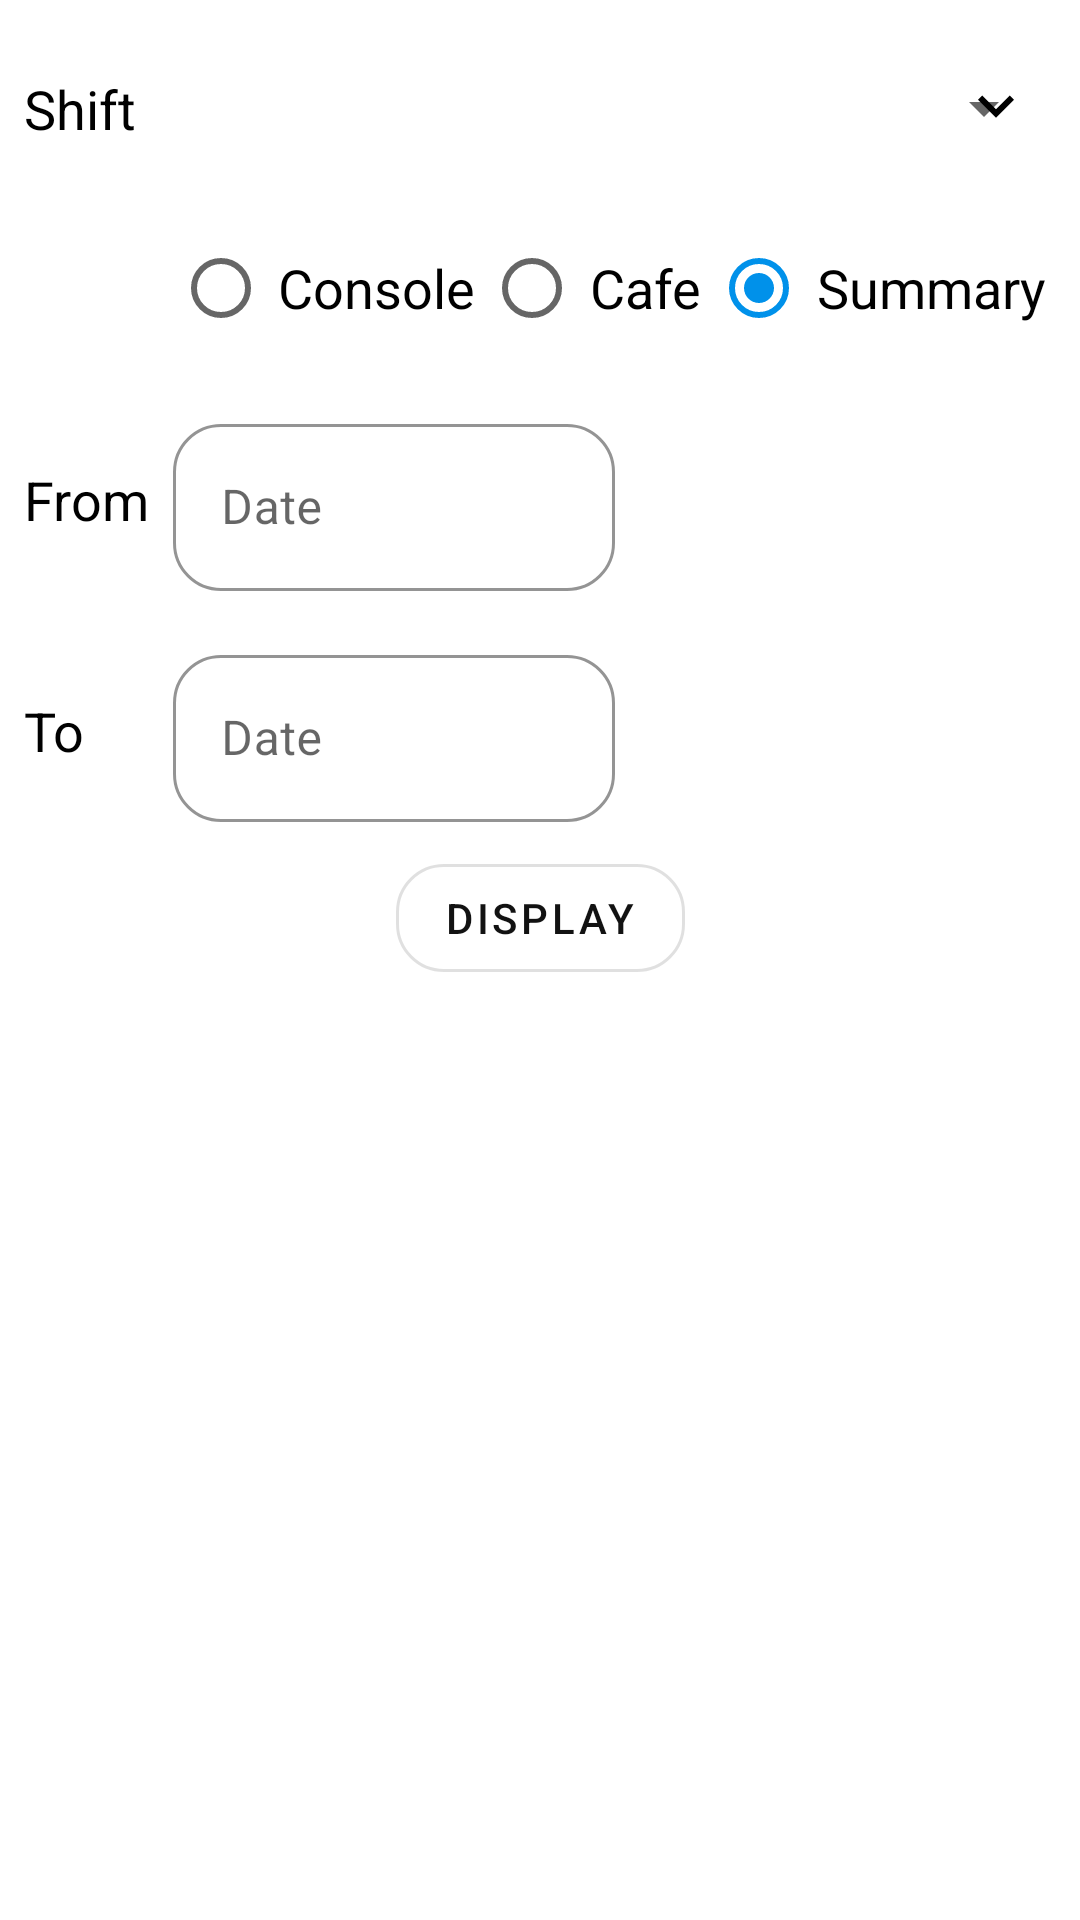

Screen size 1080*1920. Icon name, then its box in pixels as (x1, y1, x2, y2):
spinner arrow down: (969, 95, 1014, 118)
